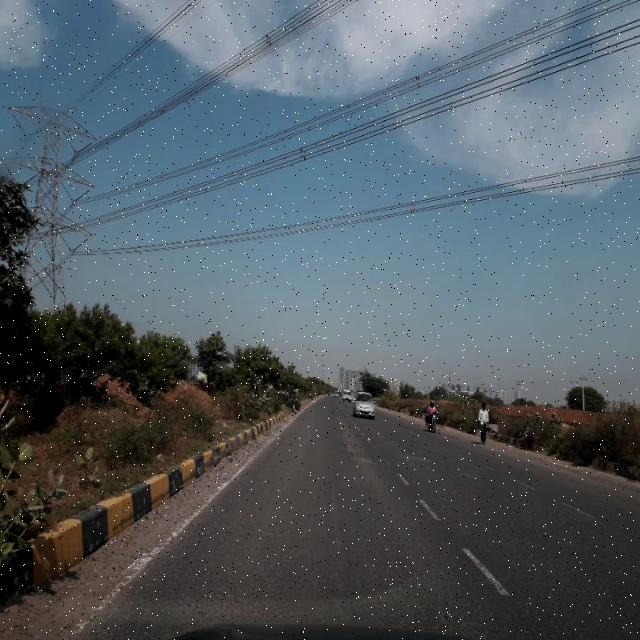D20: (215, 493, 604, 628)
D40: (340, 433, 380, 468), (394, 447, 434, 472)
